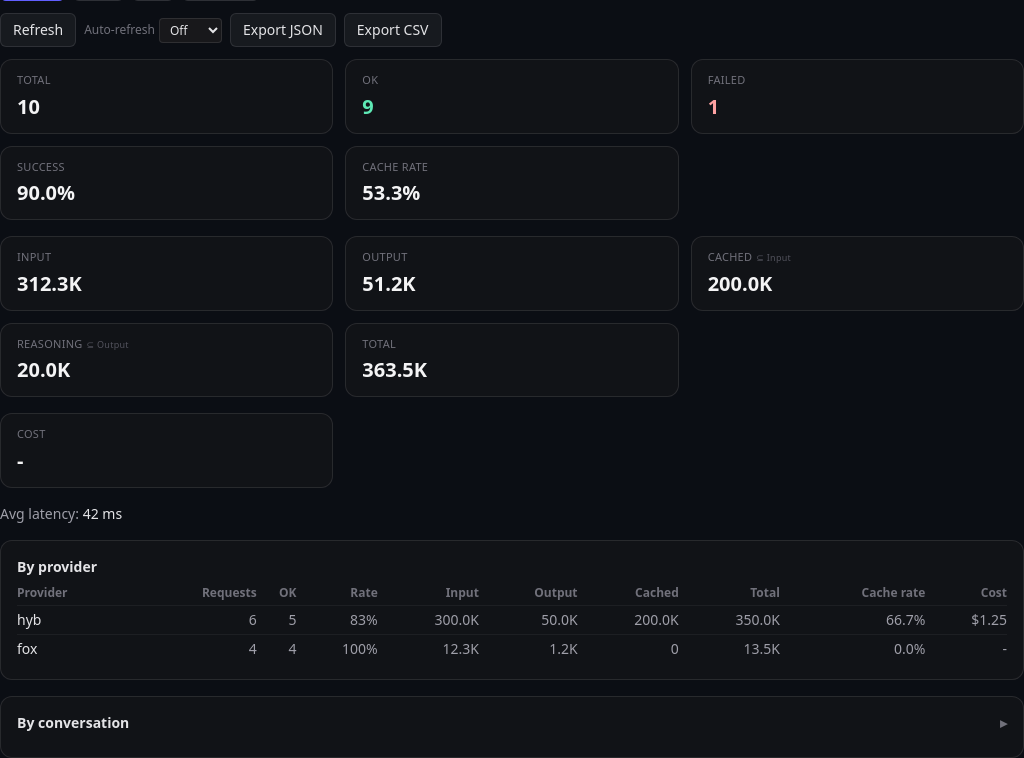
Test: StatsPanel › conversation custom range defaults to today, validates dates and requests with bounds
The image size is (1024, 758).
(page scrolled)
Expected: the text "363.5K" is shown, [362, 356, 427, 383]
Step 1. Click the button "By conversation ▸" → (73, 722), box [17, 712, 1007, 732]
(page scrolled)
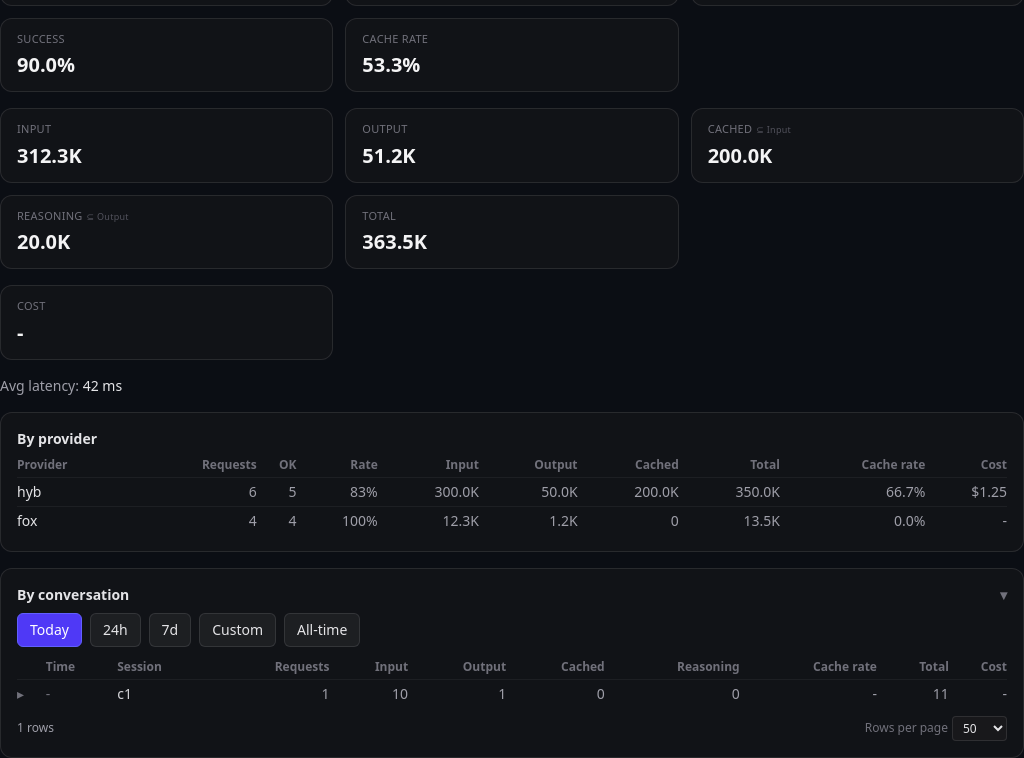
Expected: the table named "By conversation" is shown, [17, 658, 1007, 708]
Step 2. Click the button "Custom" → (238, 630), box [199, 612, 276, 646]
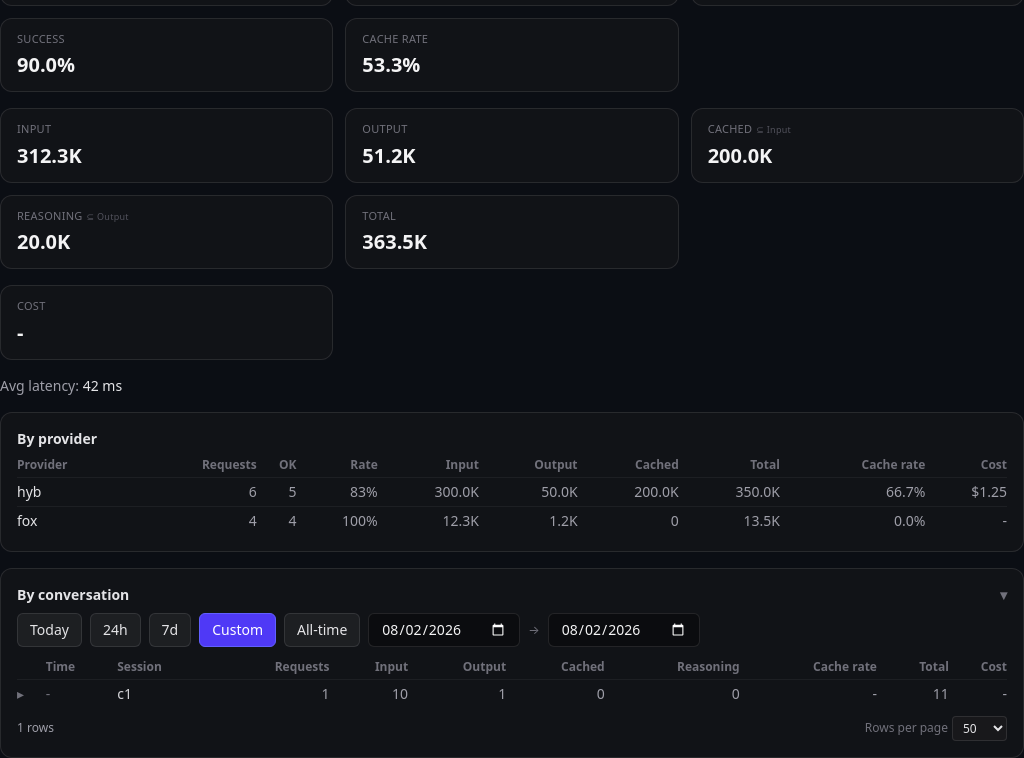
Step 3. Type "2026-08-01" into the date field named "Conversation from" → (444, 630), box [368, 612, 520, 646]
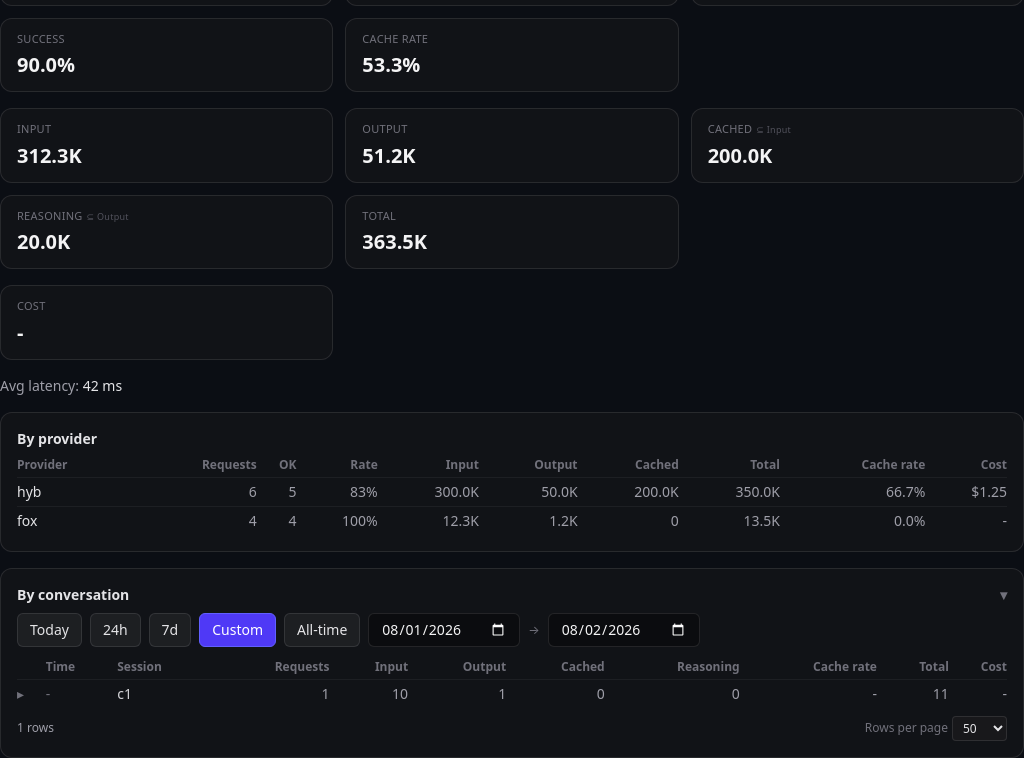
Step 4. Type "2026-07-31" into the date field named "Conversation to" → (624, 630), box [548, 612, 700, 646]
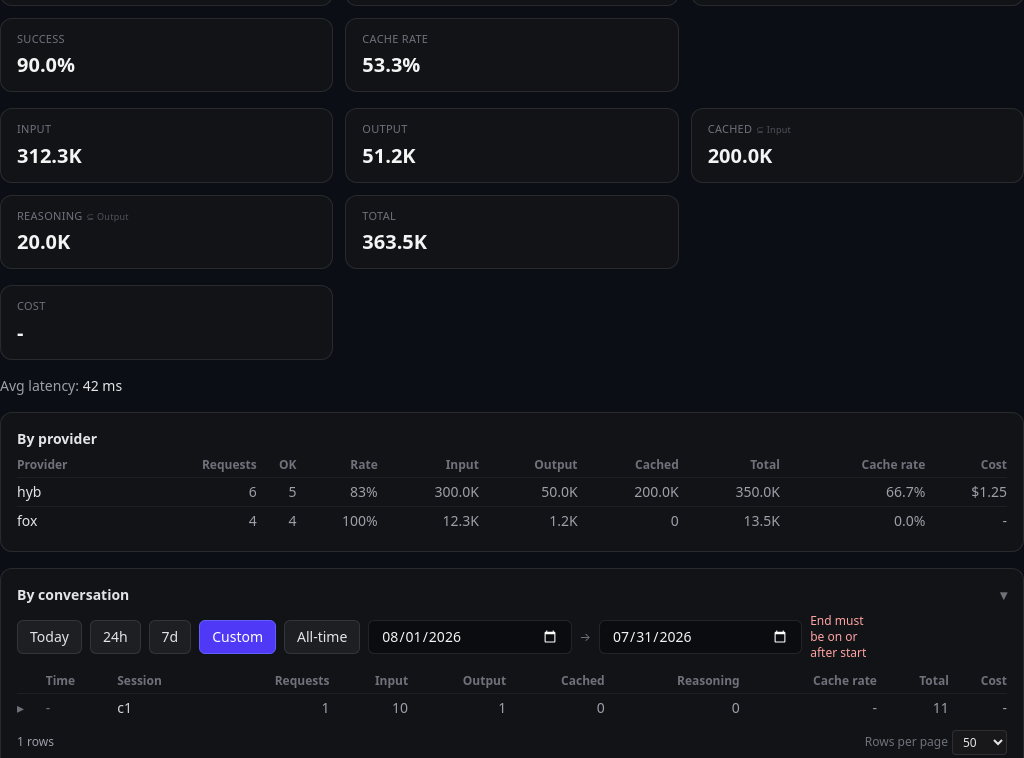
Expected: the text "End must be on or after start" is shown, [810, 612, 871, 660]
Step 5. Type "2026-08-04" into the date field named "Conversation to" → (701, 636), box [599, 620, 802, 654]
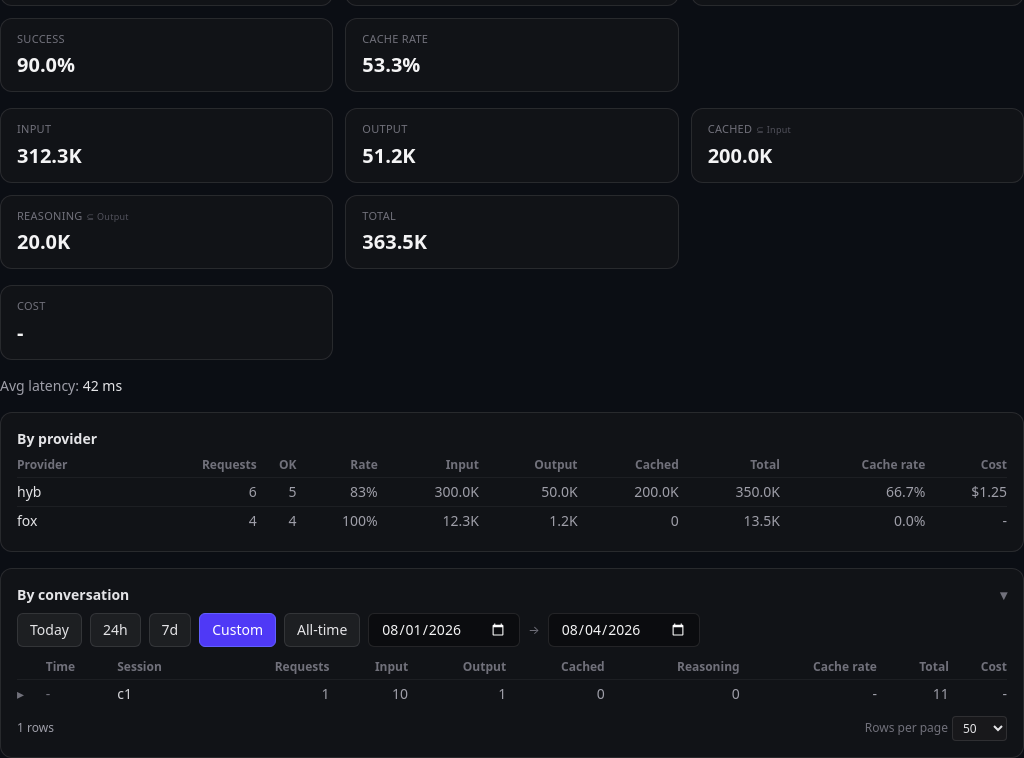
Expected: the text "End must be on or after start" is gone
